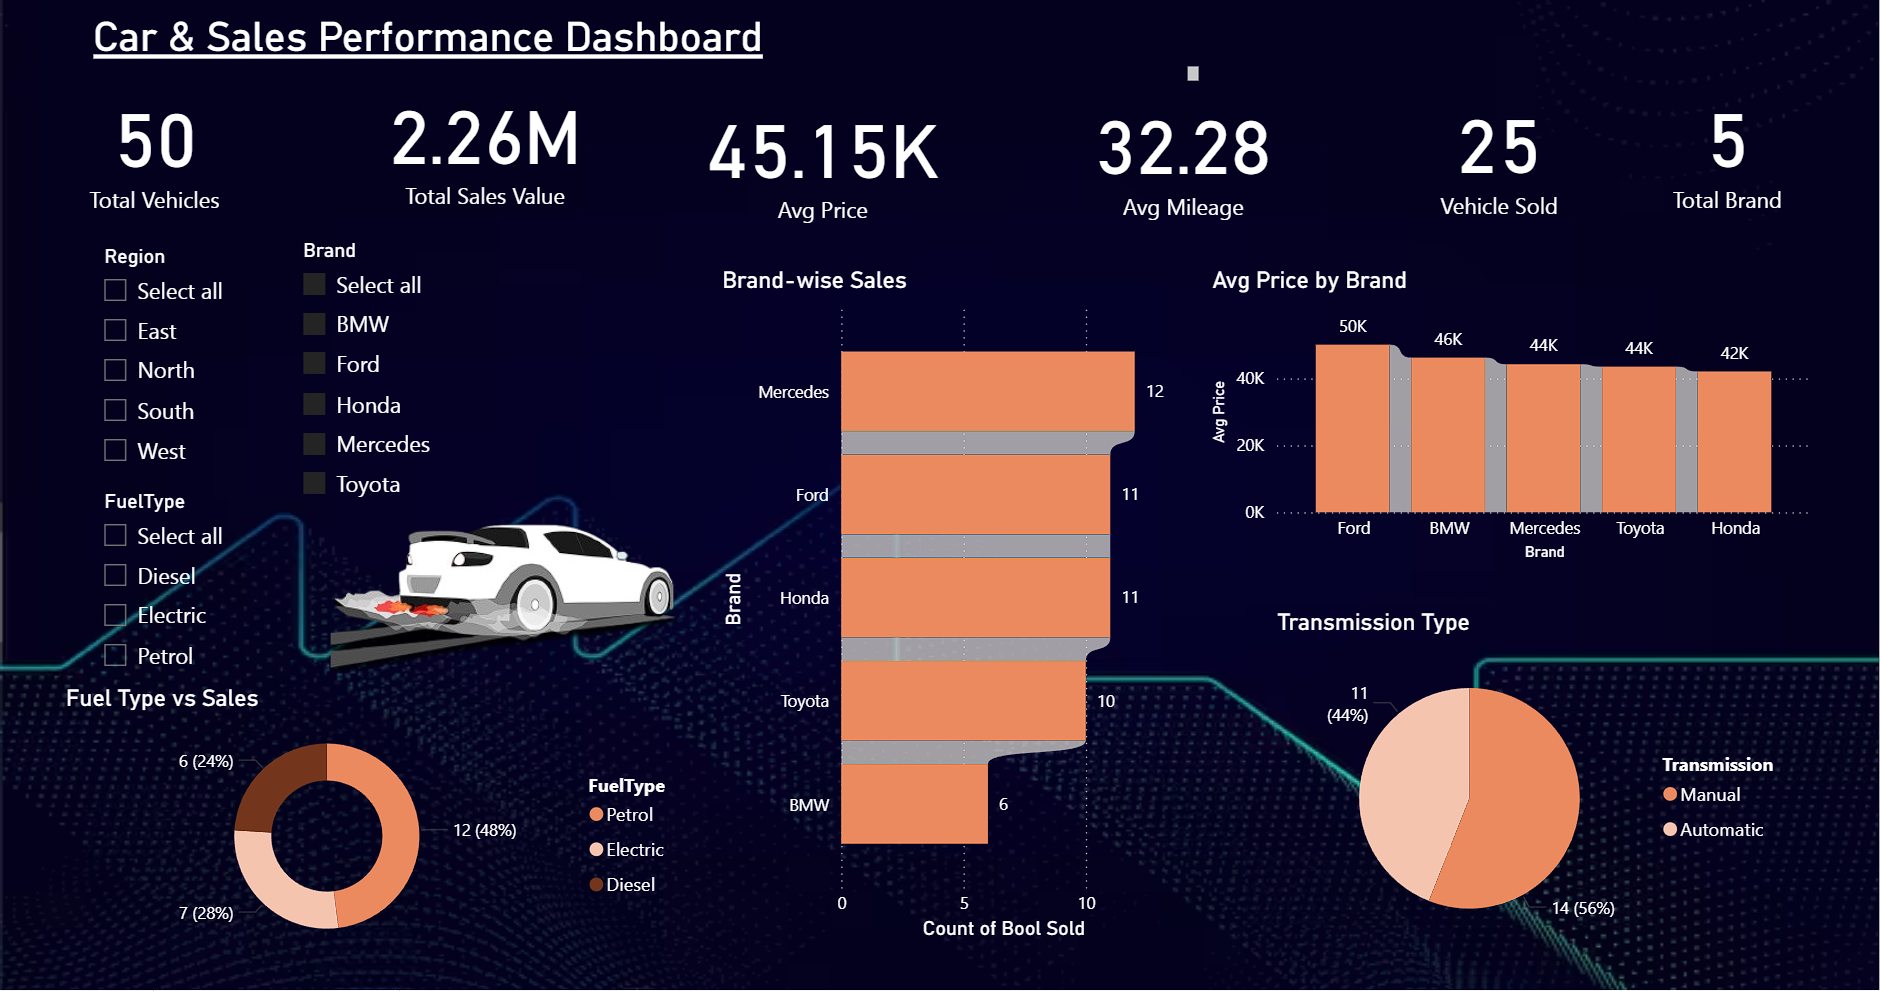

The page's visual inventory and layout, read from the dashboard file:
{"tool":"powerbi","page":{"name":"Overview","canvas":[1280,720],"ordinal":0},"visuals":[{"type":"image","box":[192.8,296.1,312.2,258.7],"z":0},{"type":"card","fields":{"Values":["cars_data_(1)(1).Total Vehicles"]},"box":[0,52.2,139.3,109.5],"z":1000},{"type":"card","fields":{"Values":["cars_data_(1)(1).Total Sales Value"]},"box":[223.9,49.8,172.9,108.2],"z":2000},{"type":"card","fields":{"Values":["cars_data_(1)(1).Avg Price"]},"box":[464,59.7,184.1,108.2],"z":3000},{"type":"card","fields":{"Values":["cars_data_(1)(1).Avg Mileage"]},"box":[732.7,49.8,170.4,123.2],"z":4000},{"type":"card","fields":{"Values":["cars_data_(1)(1).Vehicle Sold"]},"box":[961.6,53.5,171.7,114.4],"z":5000},{"type":"card","fields":{"Values":["cars_data_(1)(1).Total Brand"]},"box":[1158.1,56,110.7,100.8],"z":6000},{"type":"textbox","title":"Car & Sales Performance Dashboard","box":[19.9,8.7,813.5,54.7],"z":7000},{"type":"donutChart","title":"Fuel Type vs Sales","fields":{"Category":["cars_data_(1)(1).FuelType"],"Y":["cars_data_(1)(1).Vehicle Sold"]},"box":[0,497.6,464,202.8],"z":9000},{"type":"pieChart","title":"Transmission Type","fields":{"Category":["cars_data_(1)(1).Transmission"],"Y":["cars_data_(1)(1).Vehicle Sold"]},"box":[880.7,441.6,388.1,258.7],"z":10000},{"type":"columnChart","fields":{"Category":["cars_data_(1)(1).Brand"],"Y":["cars_data_(1)(1).Avg Price"]},"box":[833.5,194.1,446.6,218.9],"z":11000},{"type":"slicer","fields":{"Values":["cars_data_(1)(1).Region"]},"box":[19.9,172.9,204,177.9],"z":13000},{"type":"slicer","fields":{"Values":["cars_data_(1)(1).FuelType"]},"box":[19.9,350.8,155.5,148],"z":14000},{"type":"barChart","title":"Brand-wise Sales","fields":{"Category":["cars_data_(1)(1).Brand"],"Y":["CountNonNull(cars_data_(1)(1).Bool Sold)"]},"box":[477.7,194.1,340.8,495.1],"z":14500},{"type":"slicer","fields":{"Values":["cars_data_(1)(1).Brand"]},"box":[164.2,167.9,194.1,238.8],"z":15000}]}

Visuals, with their boxes on the page's 1280x720 design canvas (x1, y1, x2, y2). These are canvas units, not pixel positions in the 1880x991 screenshot, which may show the page scaled, cropped or inside an application window:
image: BBox(193, 296, 505, 555)
card - cars_data_(1)(1).Total Vehicles: BBox(0, 52, 139, 162)
card - cars_data_(1)(1).Total Sales Value: BBox(224, 50, 397, 158)
card - cars_data_(1)(1).Avg Price: BBox(464, 60, 648, 168)
card - cars_data_(1)(1).Avg Mileage: BBox(733, 50, 903, 173)
card - cars_data_(1)(1).Vehicle Sold: BBox(962, 54, 1133, 168)
card - cars_data_(1)(1).Total Brand: BBox(1158, 56, 1269, 157)
"Car & Sales Performance Dashboard" textbox: BBox(20, 9, 833, 63)
"Fuel Type vs Sales" donutChart: BBox(0, 498, 464, 700)
"Transmission Type" pieChart: BBox(881, 442, 1269, 700)
columnChart - cars_data_(1)(1).Brand x cars_data_(1)(1).Avg Price: BBox(834, 194, 1280, 413)
slicer - cars_data_(1)(1).Region: BBox(20, 173, 224, 351)
slicer - cars_data_(1)(1).FuelType: BBox(20, 351, 175, 499)
"Brand-wise Sales" barChart: BBox(478, 194, 818, 689)
slicer - cars_data_(1)(1).Brand: BBox(164, 168, 358, 407)
